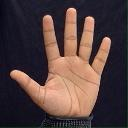hand: (9, 7, 111, 120)
